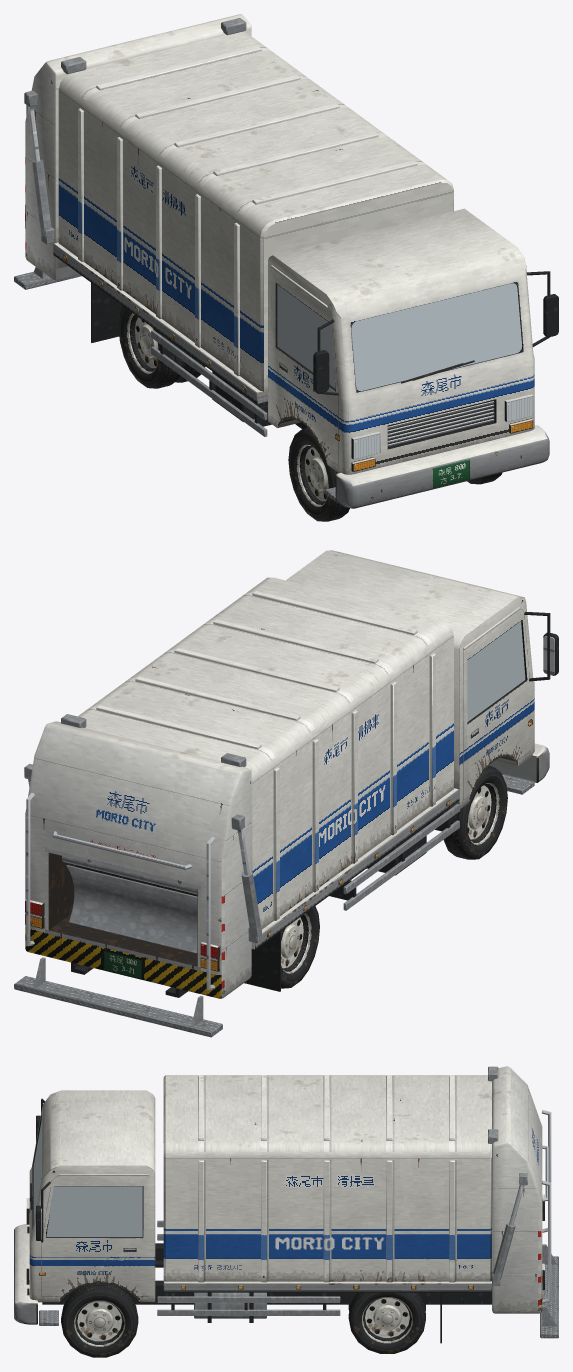
File: packer_truck.glb
3 renders of one model, top to bottom at view 1: azimuth 30°, elevation 25°; view 2: azimuth 150°, elevation 25°; view 3: azimuth 270°, elevation 25°, orthographic. The views are drawn at different scales.
Visible parts, largest first — view 1: body, cab, glass, ribs, hopper, bumper, lamps, wheel_fr, wheel_rr, flap, guard2, guard (+3 smaller); view 2: body, hopper, cab, ribs, blade, wheel_fr, glass, rear_step, wheel_rr, flap, guard2, guard (+7 smaller); view 3: body, cab, hopper, ribs, glass, wheel_fl, wheel_rl, rail.001, bumper, guard2.001, guard.001, tank (+3 smaller).
Part boxes in pixels (left/top/right/bottom): body: left=58, top=32, right=453, bottom=393; cab: left=268, top=208, right=534, bottom=474; glass: left=277, top=283, right=522, bottom=391; ribs: left=53, top=46, right=417, bottom=404; hopper: left=25, top=14, right=251, bottom=280; bumper: left=335, top=425, right=549, bottom=508; lamps: left=335, top=394, right=533, bottom=471; wheel_fr: left=288, top=427, right=349, bottom=521; wheel_rr: left=118, top=306, right=205, bottom=388; flap: left=91, top=283, right=122, bottom=342; guard2: left=151, top=330, right=267, bottom=420; guard: left=151, top=346, right=267, bottom=436; body: left=78, top=577, right=453, bottom=929; hopper: left=25, top=721, right=251, bottom=998; cab: left=286, top=550, right=534, bottom=808; ribs: left=96, top=591, right=459, bottom=949; blade: left=66, top=865, right=197, bottom=953; wheel_fr: left=443, top=766, right=507, bottom=859; glass: left=467, top=621, right=525, bottom=721; rear_step: left=14, top=976, right=222, bottom=1037; wheel_rr: left=281, top=906, right=319, bottom=988; flap: left=244, top=931, right=280, bottom=991; guard2: left=343, top=804, right=459, bottom=894; guard: left=343, top=820, right=459, bottom=910; body: left=163, top=1075, right=491, bottom=1281; cab: left=29, top=1090, right=155, bottom=1302; hopper: left=492, top=1066, right=542, bottom=1313; ribs: left=163, top=1075, right=491, bottom=1292; glass: left=33, top=1121, right=142, bottom=1236; wheel_fl: left=61, top=1283, right=138, bottom=1357; wheel_rl: left=348, top=1292, right=425, bottom=1353; rail.001: left=42, top=1280, right=491, bottom=1304; bumper: left=14, top=1224, right=37, bottom=1324; guard2.001: left=157, top=1296, right=340, bottom=1302; guard.001: left=157, top=1309, right=340, bottom=1315; tank: left=194, top=1292, right=266, bottom=1318.
Bounding box in the file's own units: 2.16 × 2.35 × 5.21.
Materials: 14 (13 with a texture image).
